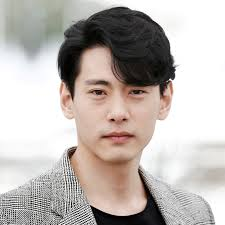asian_male: (62, 9, 166, 177)
